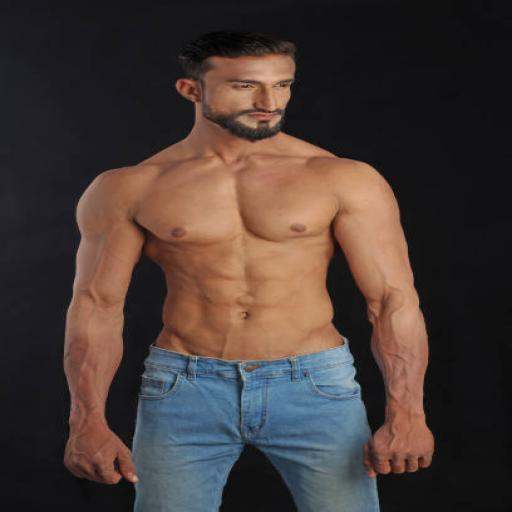Person: (104, 34, 428, 507)
no_gloves: (319, 398, 386, 475), (130, 402, 184, 484)
no_goggle: (218, 79, 284, 109)
no_helmet: (190, 24, 292, 116)
none: (136, 149, 372, 370)
